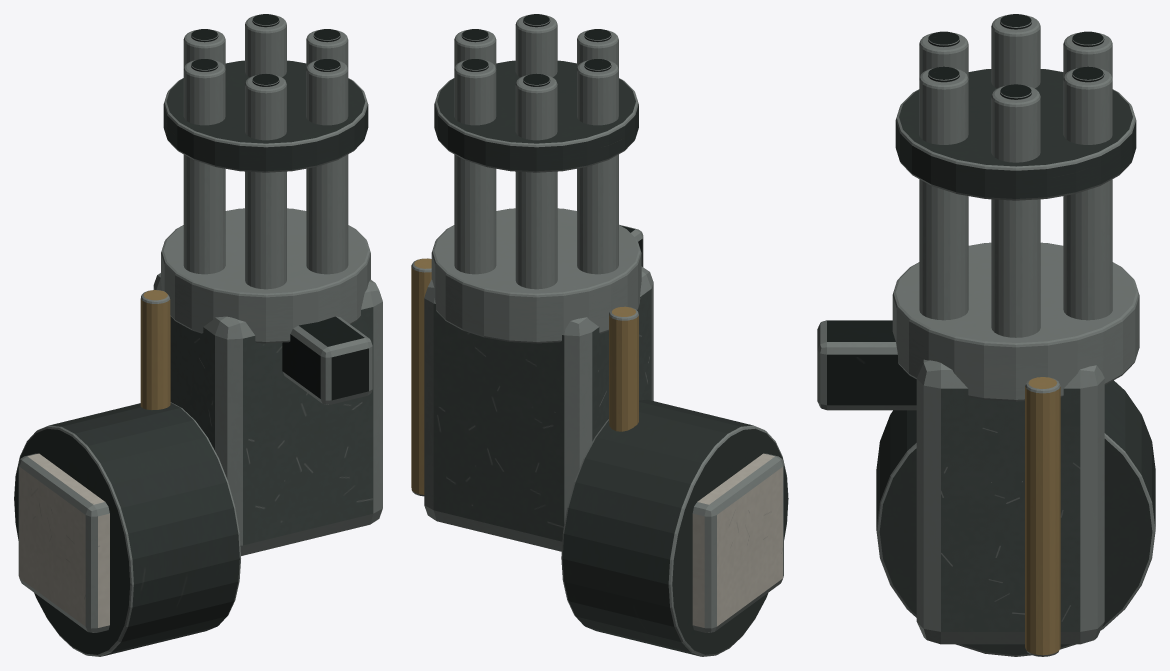
Rendered from rotary-t3.glb.
The picture shows the model from 3 angles, left to right: view 1: azimuth 30°, elevation 25°; view 2: azimuth 150°, elevation 25°; view 3: azimuth 270°, elevation 25°; orthographic projection. The views are drawn at different scales.
Visible parts, largest first — view 1: Ammunition drum, Rotary receiver, Rotating barrel carrier, Feed drum casing, Barrel front clamp, Rotary steel barrel 4, Rotary steel barrel 5, Rotary steel barrel 3, Support foregrip, Receiver recoil rail, Rotary steel barrel 1, Rotary steel barrel 0 (+1 smaller); view 2: Rotary receiver, Ammunition drum, Rotating barrel carrier, Feed drum casing, Barrel front clamp, Rotary steel barrel 2, Rotary steel barrel 1, Rotary steel barrel 3, Receiver recoil rail, Receiver recoil rail.001, Rotary steel barrel 5, Rotary steel barrel 0 (+1 smaller); view 3: Rotary receiver, Rotating barrel carrier, Ammunition drum, Barrel front clamp, Rotary steel barrel 0, Receiver recoil rail.001, Rotary steel barrel 5, Rotary steel barrel 1, Support foregrip, Rotary steel barrel 3, Rotary steel barrel 2, Rotary steel barrel 4.
Boxes of the visible parts, bbox=[...] form: Ammunition drum: bbox=[14, 402, 240, 656]; Rotary receiver: bbox=[153, 273, 382, 555]; Rotating barrel carrier: bbox=[161, 208, 370, 343]; Feed drum casing: bbox=[18, 453, 109, 632]; Barrel front clamp: bbox=[163, 60, 368, 172]; Rotary steel barrel 4: bbox=[245, 75, 286, 289]; Rotary steel barrel 5: bbox=[306, 60, 348, 274]; Rotary steel barrel 3: bbox=[183, 60, 225, 274]; Support foregrip: bbox=[282, 316, 372, 404]; Receiver recoil rail: bbox=[140, 290, 170, 409]; Rotary steel barrel 1: bbox=[245, 15, 286, 77]; Rotary steel barrel 0: bbox=[306, 30, 348, 68]; Rotary receiver: bbox=[424, 266, 653, 551]; Ammunition drum: bbox=[561, 399, 788, 656]; Rotating barrel carrier: bbox=[431, 208, 641, 343]; Feed drum casing: bbox=[692, 453, 783, 632]; Barrel front clamp: bbox=[434, 60, 638, 172]; Rotary steel barrel 2: bbox=[515, 75, 557, 289]; Rotary steel barrel 1: bbox=[454, 60, 496, 274]; Rotary steel barrel 3: bbox=[577, 60, 618, 274]; Receiver recoil rail: bbox=[609, 306, 638, 431]; Receiver recoil rail.001: bbox=[411, 258, 431, 496]; Rotary steel barrel 5: bbox=[515, 15, 557, 77]; Rotary steel barrel 0: bbox=[454, 30, 496, 68]; Rotary receiver: bbox=[916, 359, 1104, 644]; Rotating barrel carrier: bbox=[892, 242, 1139, 401]; Ammunition drum: bbox=[876, 380, 1155, 656]; Barrel front clamp: bbox=[895, 69, 1136, 200]; Rotary steel barrel 0: bbox=[991, 85, 1040, 337]; Receiver recoil rail.001: bbox=[1025, 377, 1060, 656]; Rotary steel barrel 5: bbox=[919, 68, 968, 320]; Rotary steel barrel 1: bbox=[1063, 68, 1112, 320]; Support foregrip: bbox=[817, 320, 916, 410]; Rotary steel barrel 3: bbox=[991, 15, 1040, 88]; Rotary steel barrel 2: bbox=[1063, 32, 1112, 78]; Rotary steel barrel 4: bbox=[919, 32, 968, 78].
Bounding box in the file's own units: 0.823 × 1.34 × 0.63.
6 materials, 6 textured.
